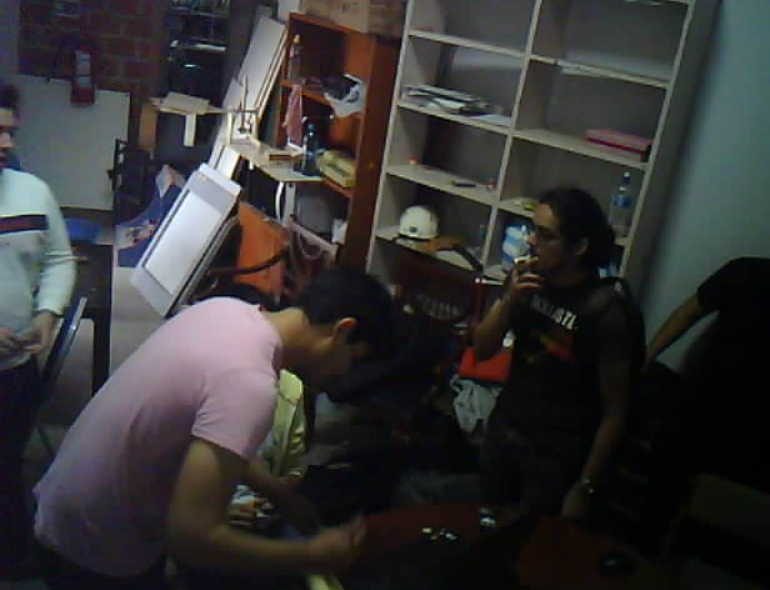person: (18, 255, 428, 590), (442, 139, 641, 561), (618, 214, 770, 537), (0, 87, 102, 512)
